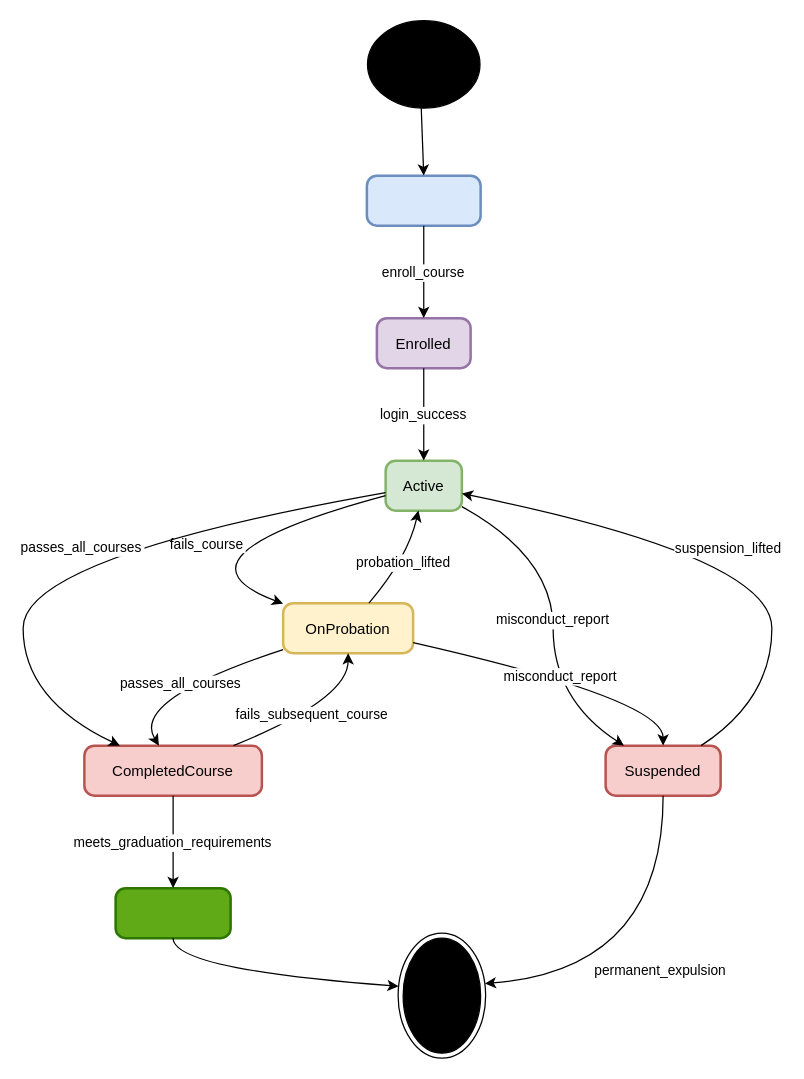
Image size: 804x1079. Some labels were removed from this diagram. Each missing label, with the centre of its shape:
"Graduated" belongs at (172,912).
"Registered" belongs at (423,200).
